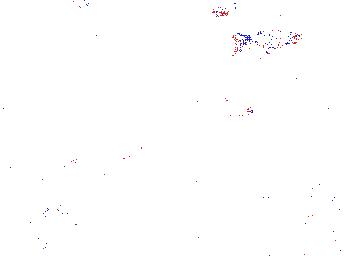glassfish: (41, 136, 148, 183)
red belly glassfish: (204, 103, 258, 122), (208, 3, 238, 20)
redtail glassfish: (235, 27, 305, 53)
